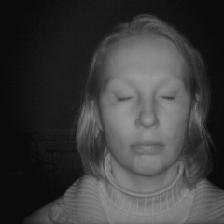normal: (82, 31, 213, 178)
